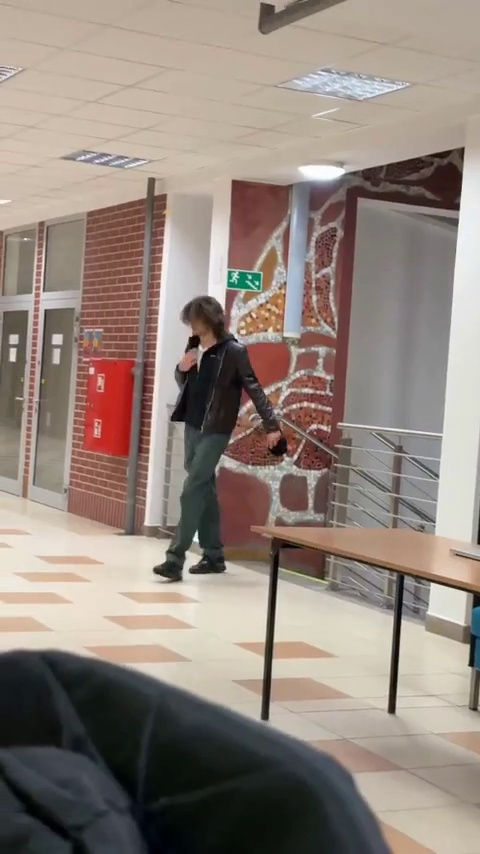no vest: (169, 292, 275, 579)
